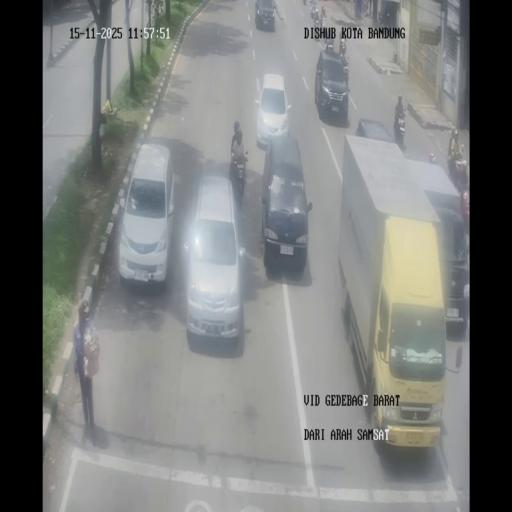3: (338, 135, 455, 444)
car: (184, 174, 244, 342), (118, 142, 174, 286), (260, 132, 310, 273), (256, 72, 290, 149), (315, 48, 349, 122), (355, 119, 395, 142), (254, 0, 275, 31)
truck: (447, 151, 469, 197), (230, 149, 247, 199), (393, 104, 406, 148), (461, 193, 469, 235), (324, 38, 334, 53), (339, 38, 346, 58), (320, 11, 327, 29), (313, 8, 320, 25), (362, 0, 368, 17), (378, 10, 382, 23), (310, 0, 314, 8)
